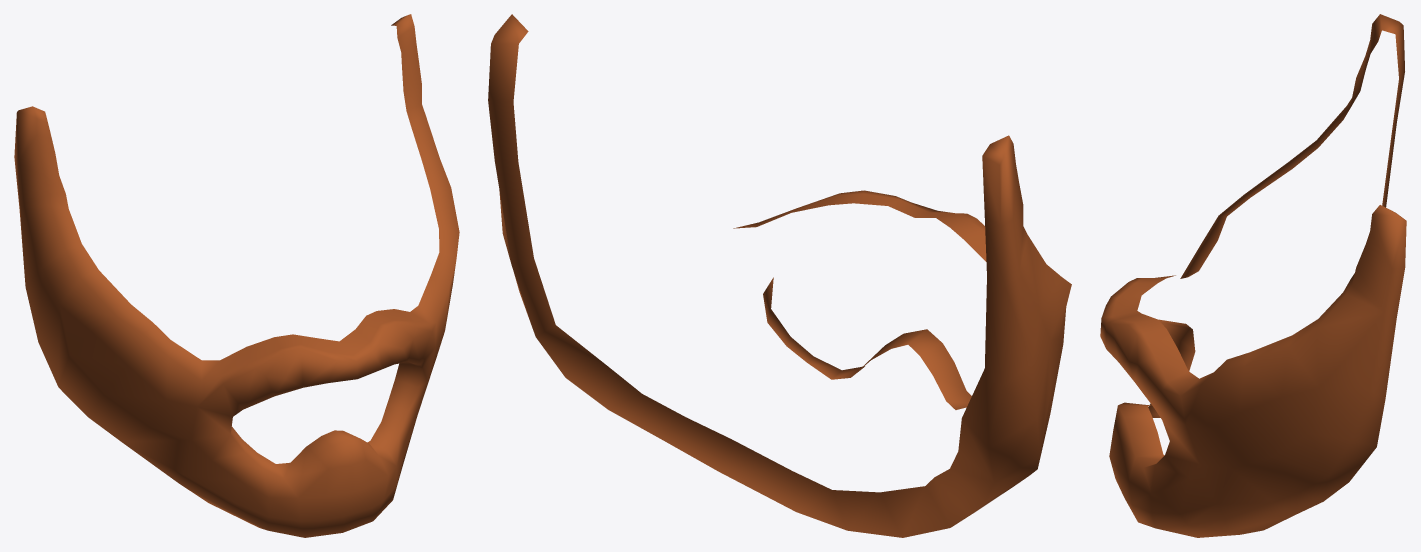
3 renders of one model, left to right at view 1: azimuth 30°, elevation 25°; view 2: azimuth 150°, elevation 25°; view 3: azimuth 270°, elevation 25°, orthographic. The views are drawn at different scales.
Parts seen in each view (by area): view 1: Wolf3D_Beard; view 2: Wolf3D_Beard; view 3: Wolf3D_Beard.
Part boxes in pixels (bbox=[...]): Wolf3D_Beard: bbox=[14, 14, 459, 537]; Wolf3D_Beard: bbox=[488, 14, 1071, 537]; Wolf3D_Beard: bbox=[1100, 14, 1406, 537].
Bounding box in the file's own units: 0.1538 × 0.1458 × 0.0981.
1 material, 1 textured.
